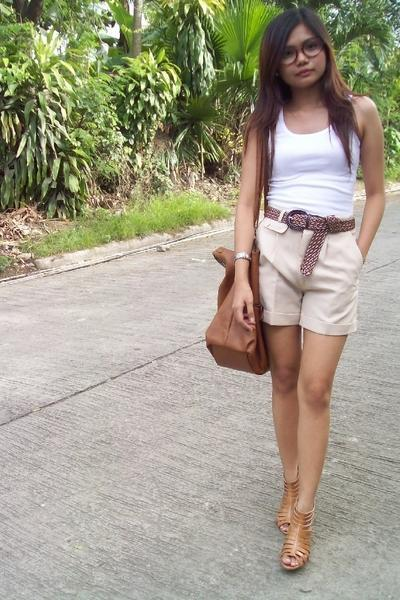bag: (204, 238, 286, 374)
shirt: (267, 121, 360, 220)
shoe: (273, 473, 313, 576)
shorts: (258, 210, 360, 334)
